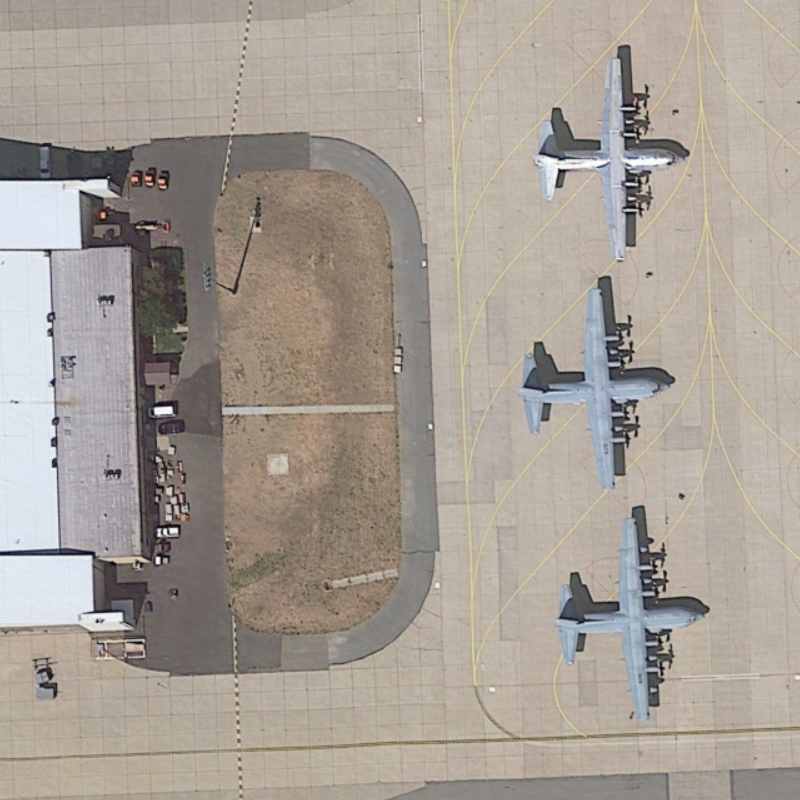A2: (545, 506, 715, 728), (508, 275, 672, 496), (528, 44, 687, 267)
